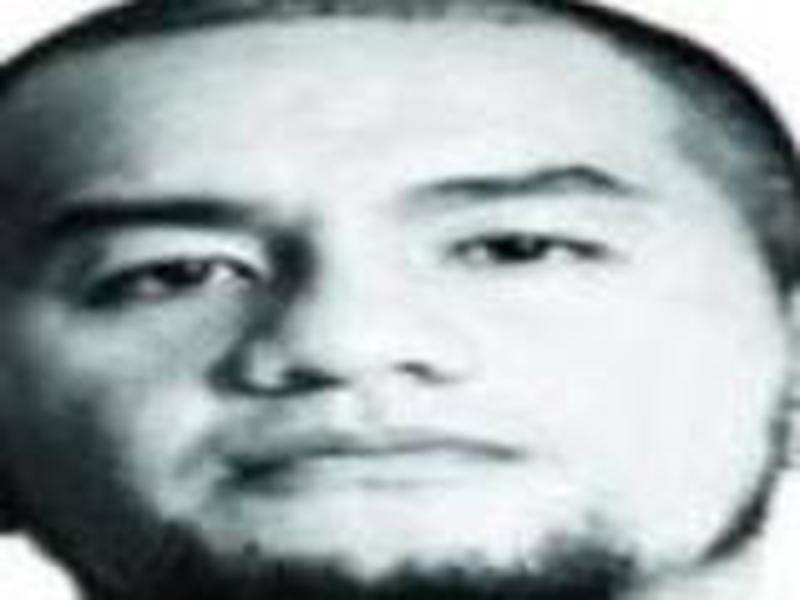without_mask: (27, 63, 702, 582)
